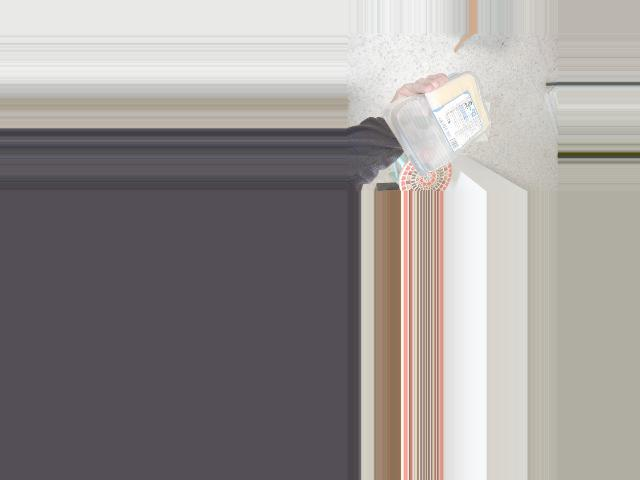cheese: (394, 83, 500, 177)
